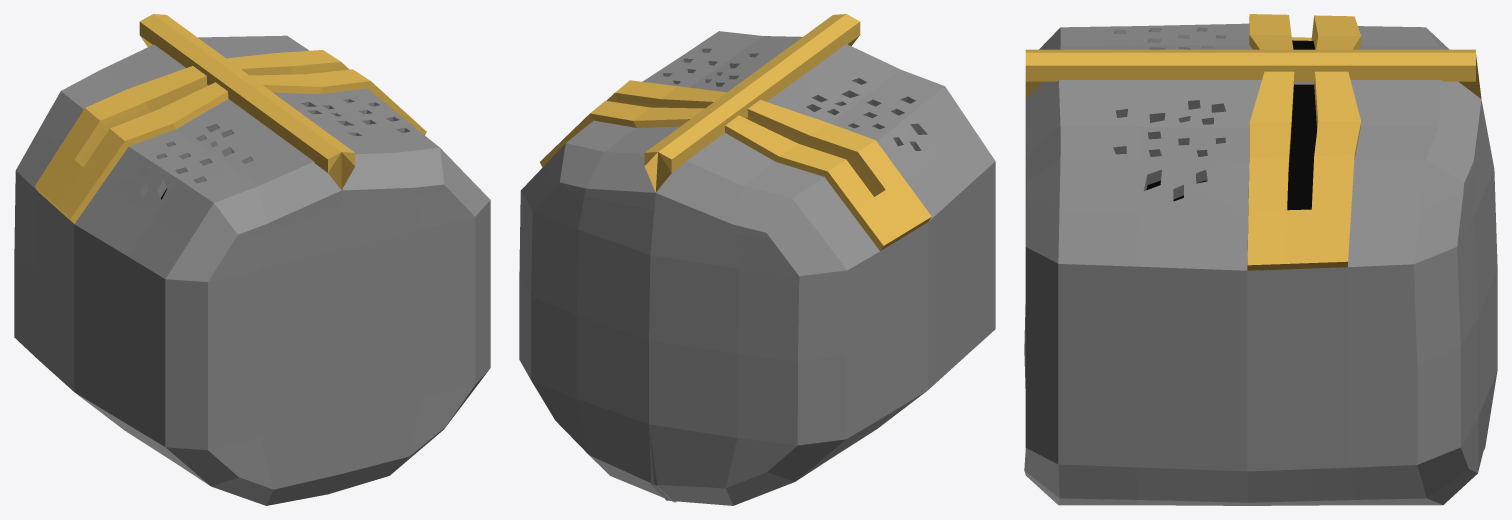
File: HlemetHat.fbx
The picture shows the model from 3 angles, left to right: view 1: azimuth 30°, elevation 25°; view 2: azimuth 150°, elevation 25°; view 3: azimuth 270°, elevation 25°; orthographic projection. The views are drawn at different scales.
Visible parts, largest first — view 1: KnightHelmet; view 2: KnightHelmet; view 3: KnightHelmet.
Boxes of the visible parts, x1=… form: KnightHelmet: x1=14, y1=14, x2=490, y2=505; KnightHelmet: x1=519, y1=14, x2=995, y2=505; KnightHelmet: x1=1024, y1=14, x2=1497, y2=505.
Bounding box in the file's own units: 89.79 × 86.5 × 86.54.
